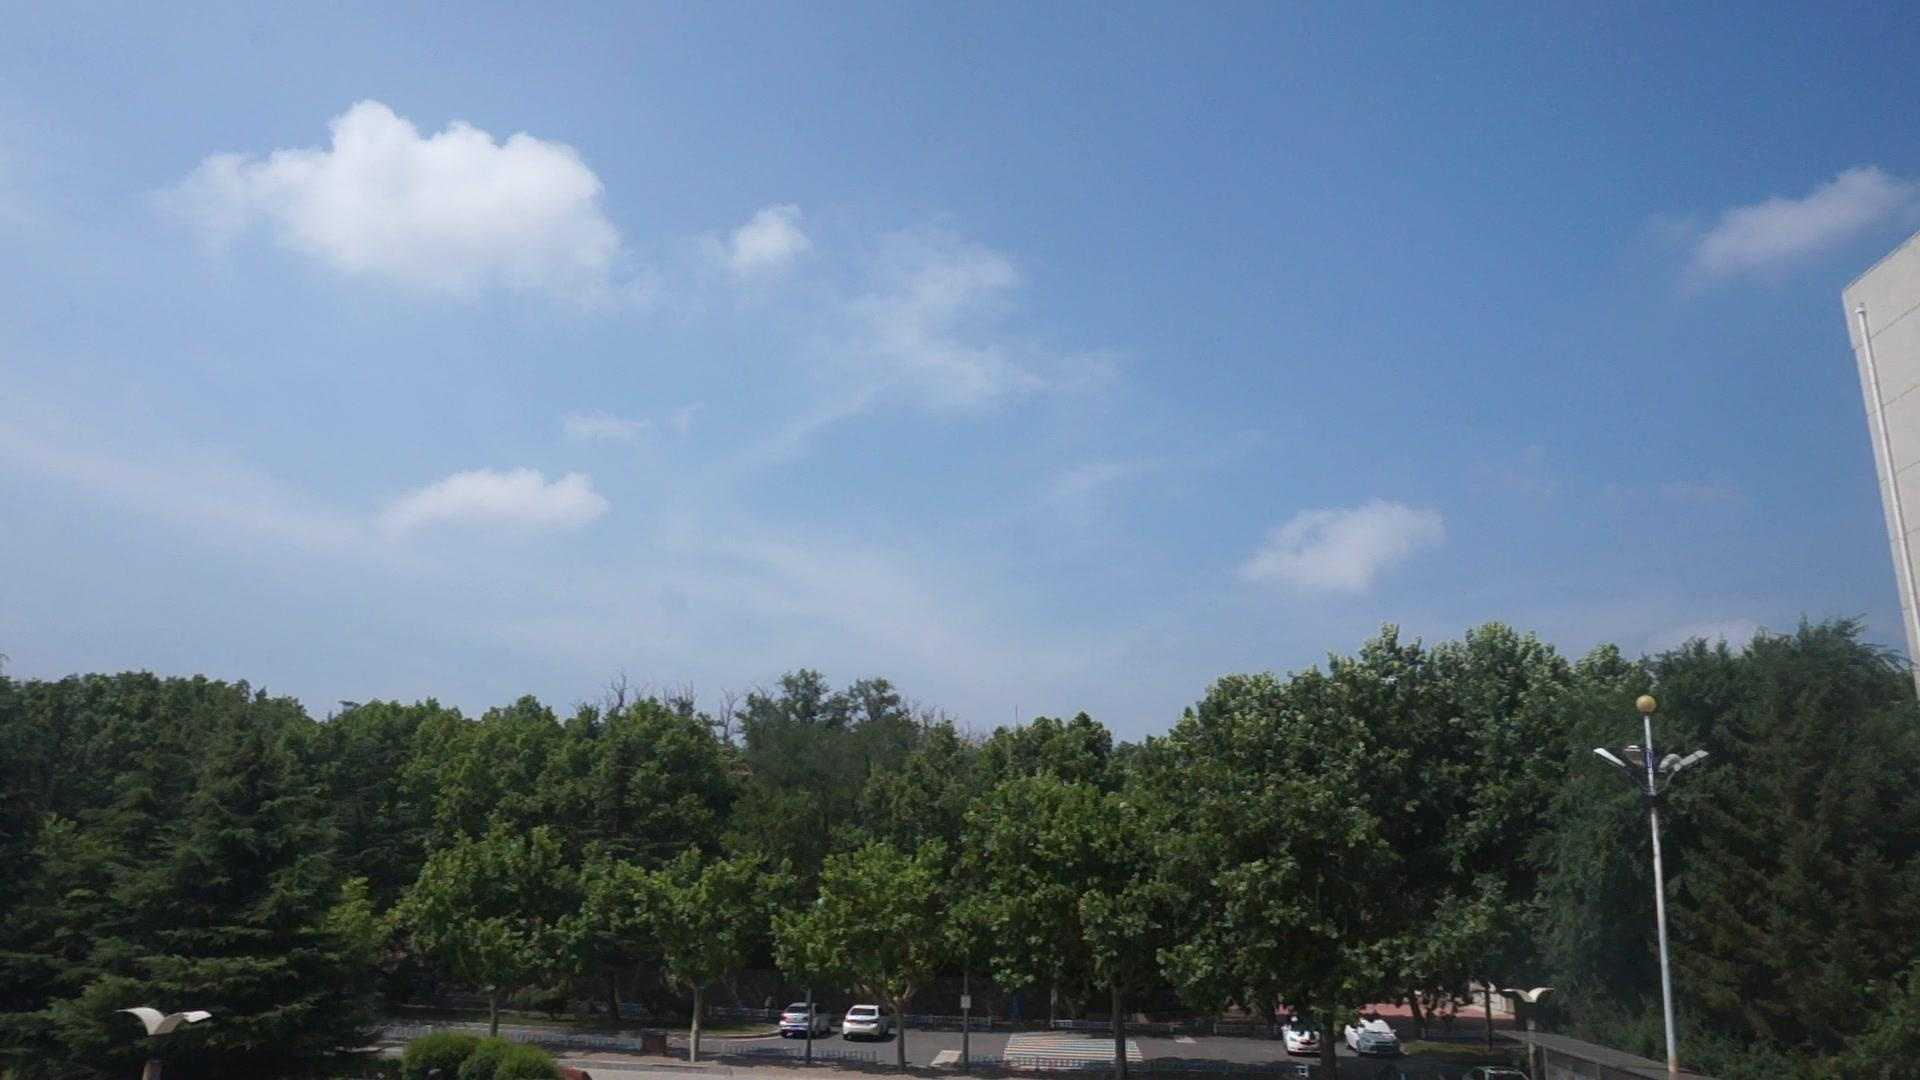UAV: (1381, 676, 1398, 684)
